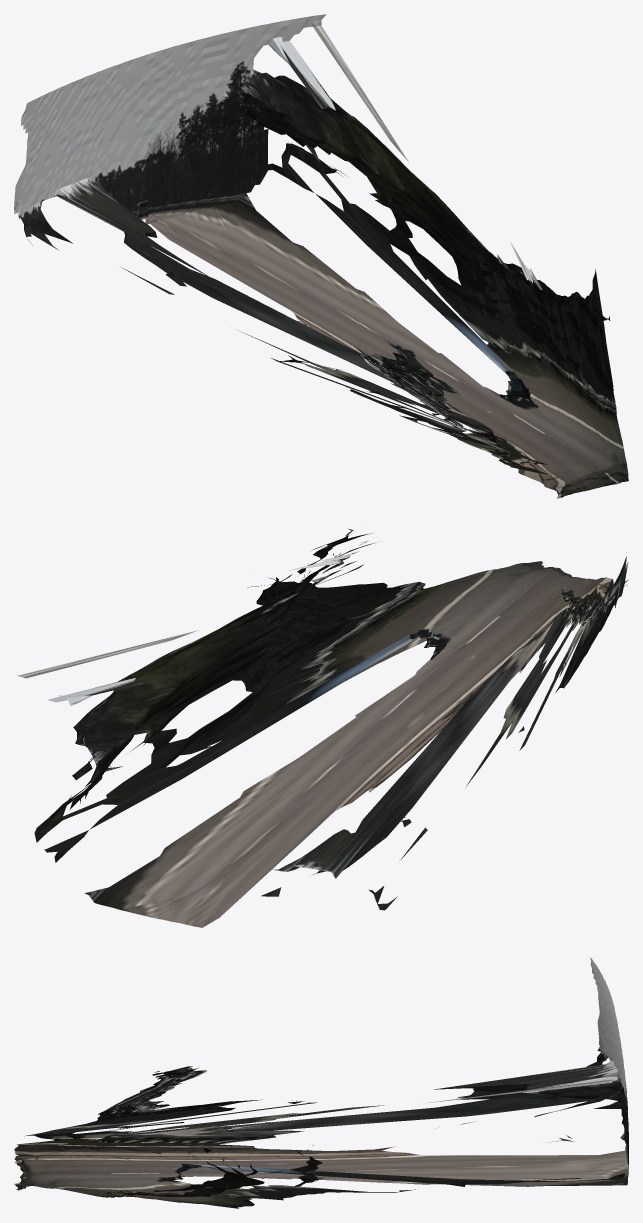
The picture shows the model from 3 angles, top to bottom: view 1: azimuth 30°, elevation 25°; view 2: azimuth 150°, elevation 25°; view 3: azimuth 270°, elevation 25°; orthographic projection. The views are drawn at different scales.
Visible parts, largest first — view 1: defaultobject; view 2: defaultobject; view 3: defaultobject.
Part boxes in pixels (left/top/right/bottom): defaultobject: left=14, top=14, right=628, bottom=498; defaultobject: left=17, top=529, right=628, bottom=927; defaultobject: left=14, top=957, right=628, bottom=1208.
Size of the model in its own units: 24.87 by 11.7 by 44.59.
1 material, 1 textured.
